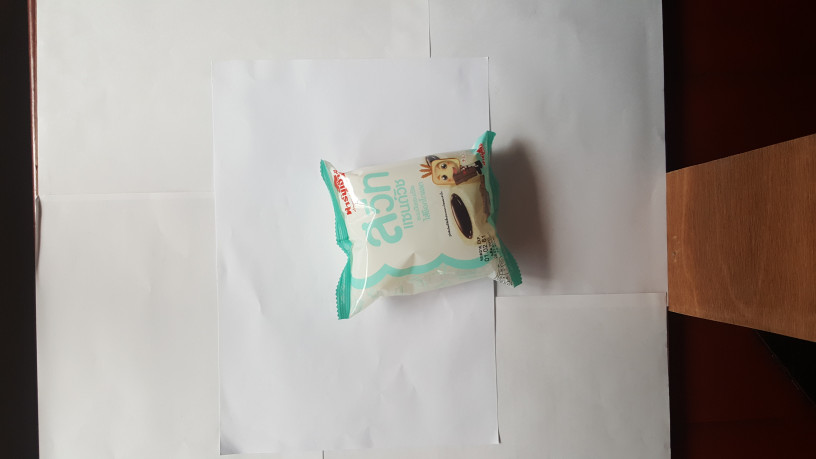farmhouse-sweetsandwich-chocolate: (314, 134, 528, 321)
